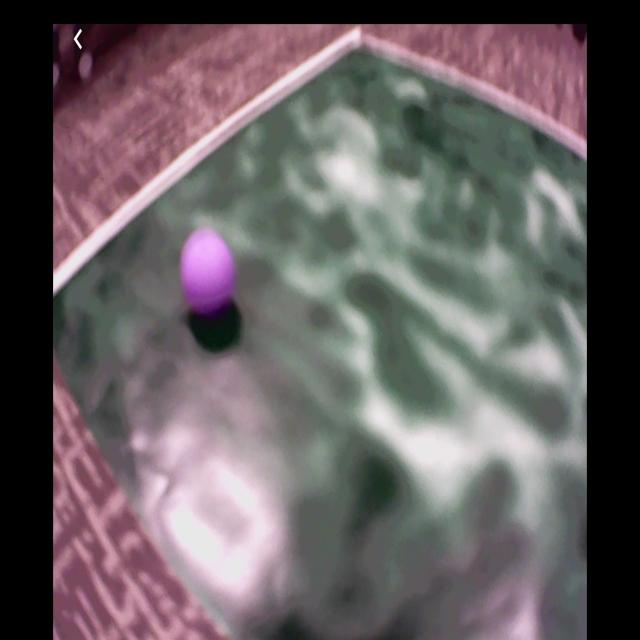ball: (182, 235, 235, 312)
